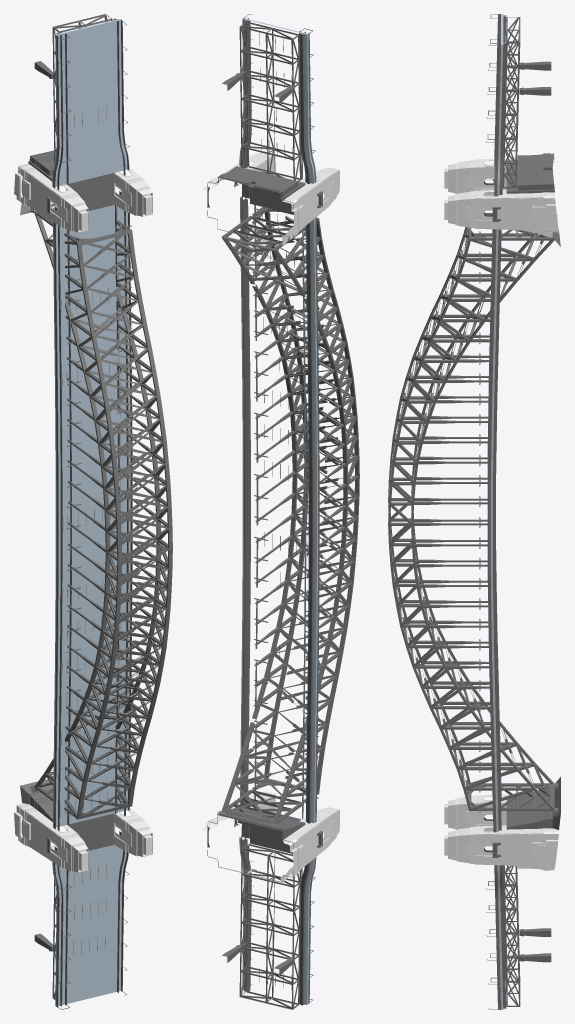
3 views of the same model, side by side, from view 1: azimuth 30°, elevation 25°; view 2: azimuth 150°, elevation 25°; view 3: azimuth 270°, elevation 25° (orthographic).
Parts seen in each view (by area): view 1: Layer:0, Object01, Object02; view 2: Layer:0, Object01, Object02; view 3: Layer:0, Object02, Object01.
Boxes of the visible parts, x1,y1,x2,y2 form: Layer:0: (20, 14, 172, 1009); Object01: (52, 19, 130, 1006); Object02: (14, 163, 152, 872); Layer:0: (207, 14, 359, 1009); Object01: (239, 18, 317, 1004); Object02: (201, 152, 339, 883); Layer:0: (388, 14, 560, 1009); Object02: (444, 156, 560, 870); Object01: (490, 14, 503, 1009).
Bounding box in the file's own units: 34.34 × 347 × 56.3.
